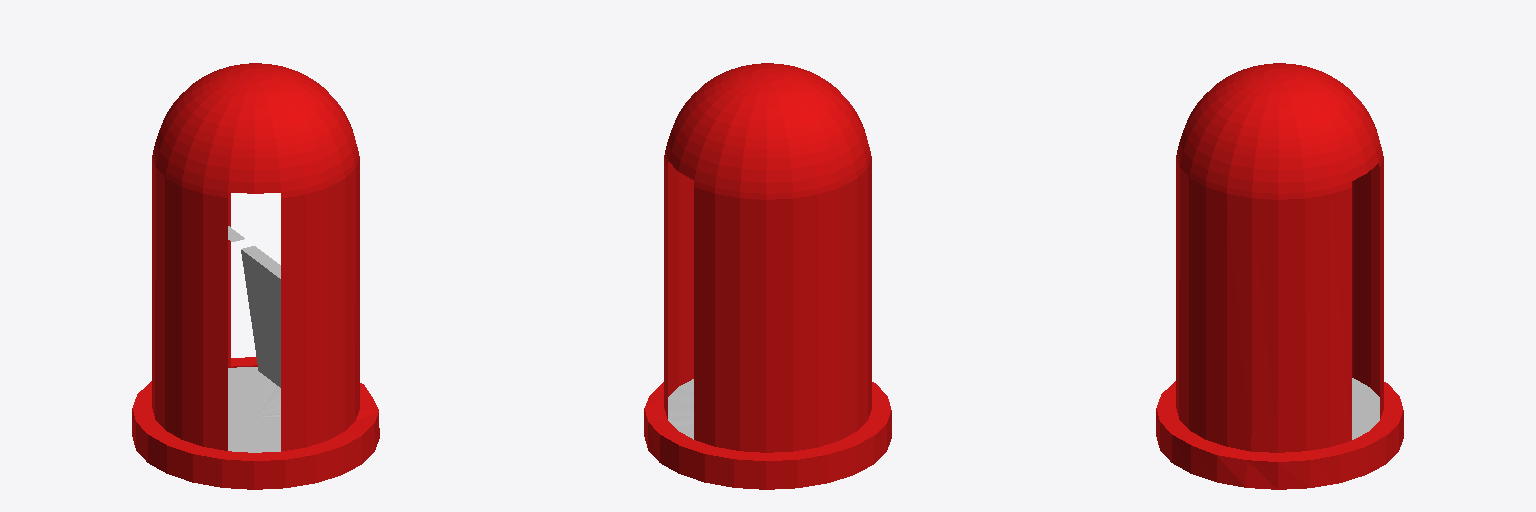
File: LED_E.obj
The picture shows the model from 3 angles: view 1: azimuth 30°, elevation 25°; view 2: azimuth 150°, elevation 25°; view 3: azimuth 270°, elevation 25°; orthographic projection.
Visible parts, largest first — view 1: Null.2_Plastic.2, Null.2_Blurry_Metal; view 2: Null.2_Plastic.2, Null.2_Blurry_Metal; view 3: Null.2_Plastic.2, Null.2_Blurry_Metal.
Part boxes in pixels (x1,y1,x2,y2): Null.2_Plastic.2: (132, 63, 379, 489); Null.2_Blurry_Metal: (228, 226, 280, 452); Null.2_Plastic.2: (644, 63, 891, 489); Null.2_Blurry_Metal: (668, 379, 693, 439); Null.2_Plastic.2: (1156, 63, 1403, 489); Null.2_Blurry_Metal: (1352, 378, 1379, 439).
Size of the model in its own units: 1.55 by 2.51 by 1.55.